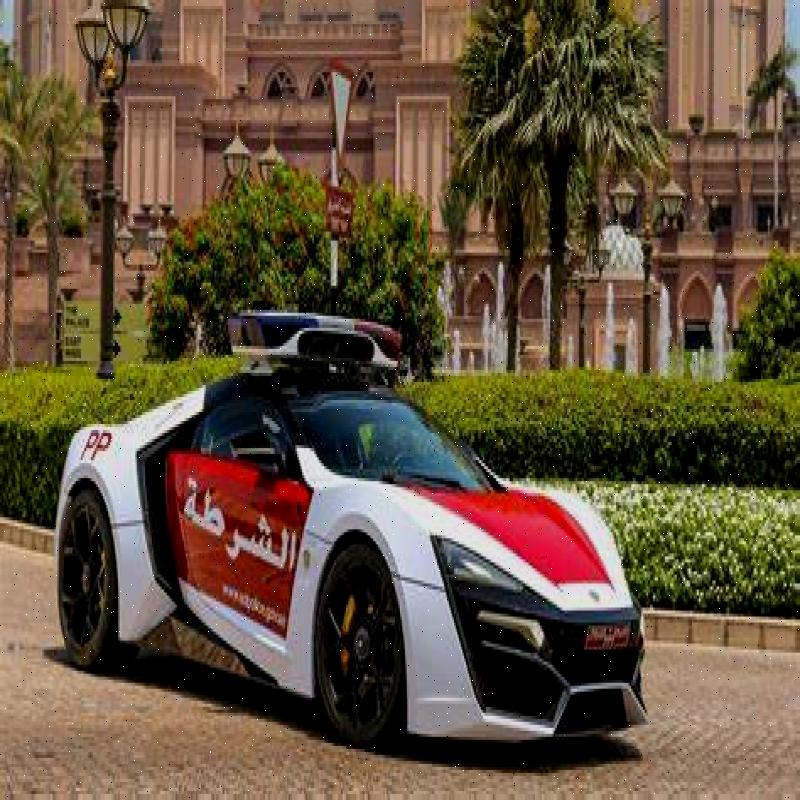AmbulanceSiren: (228, 259, 418, 385)
car: (33, 365, 595, 746)
